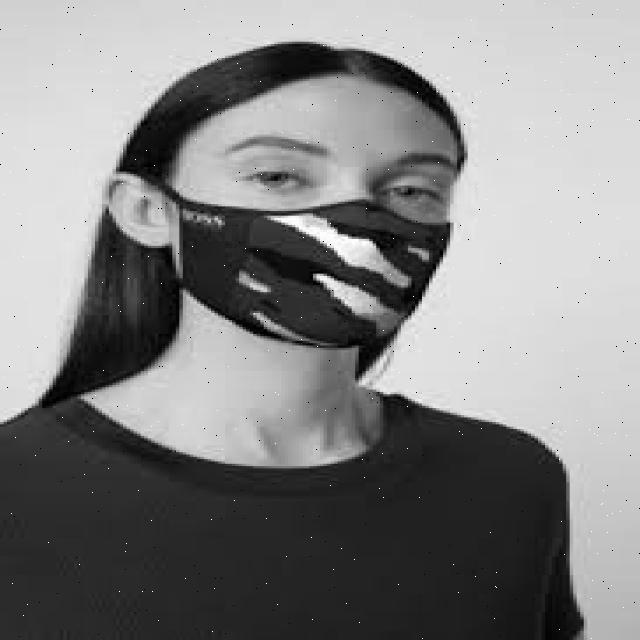fake: (138, 192, 514, 370)
real: (173, 85, 465, 375)
